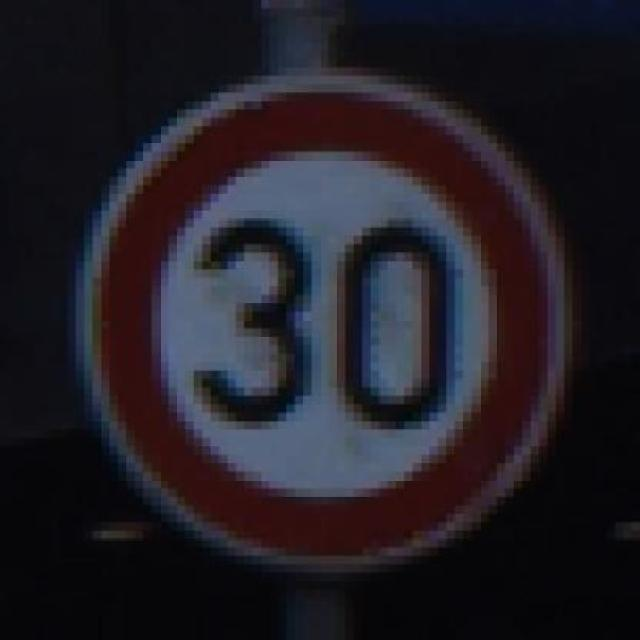Speed Limit 30 KMPh: (34, 76, 581, 590)
